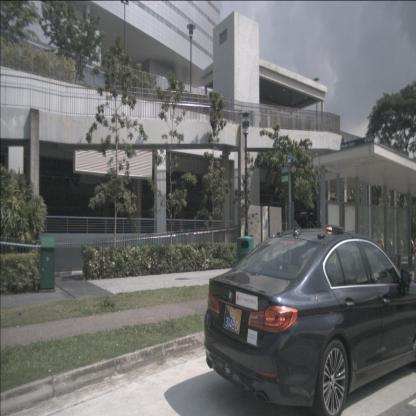vehicle-car: (204, 226, 415, 415)
